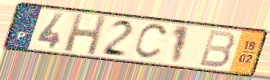1: (169, 25, 190, 66)
2: (97, 20, 137, 58)
4: (35, 12, 65, 51)
B: (196, 28, 236, 70)
C: (132, 23, 171, 62)
H: (62, 12, 109, 58)
